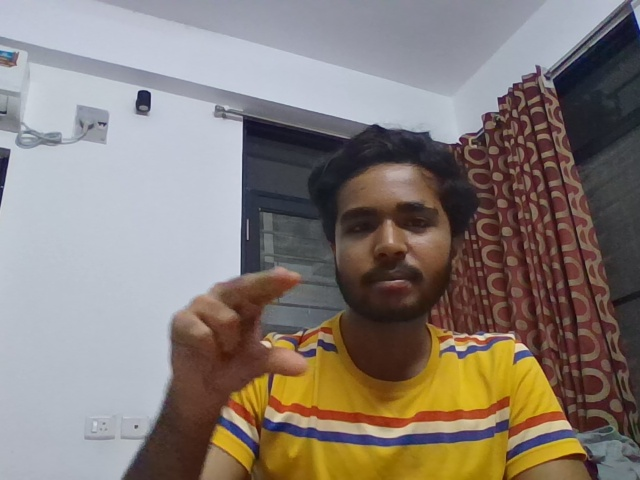No: (142, 253, 326, 416)
